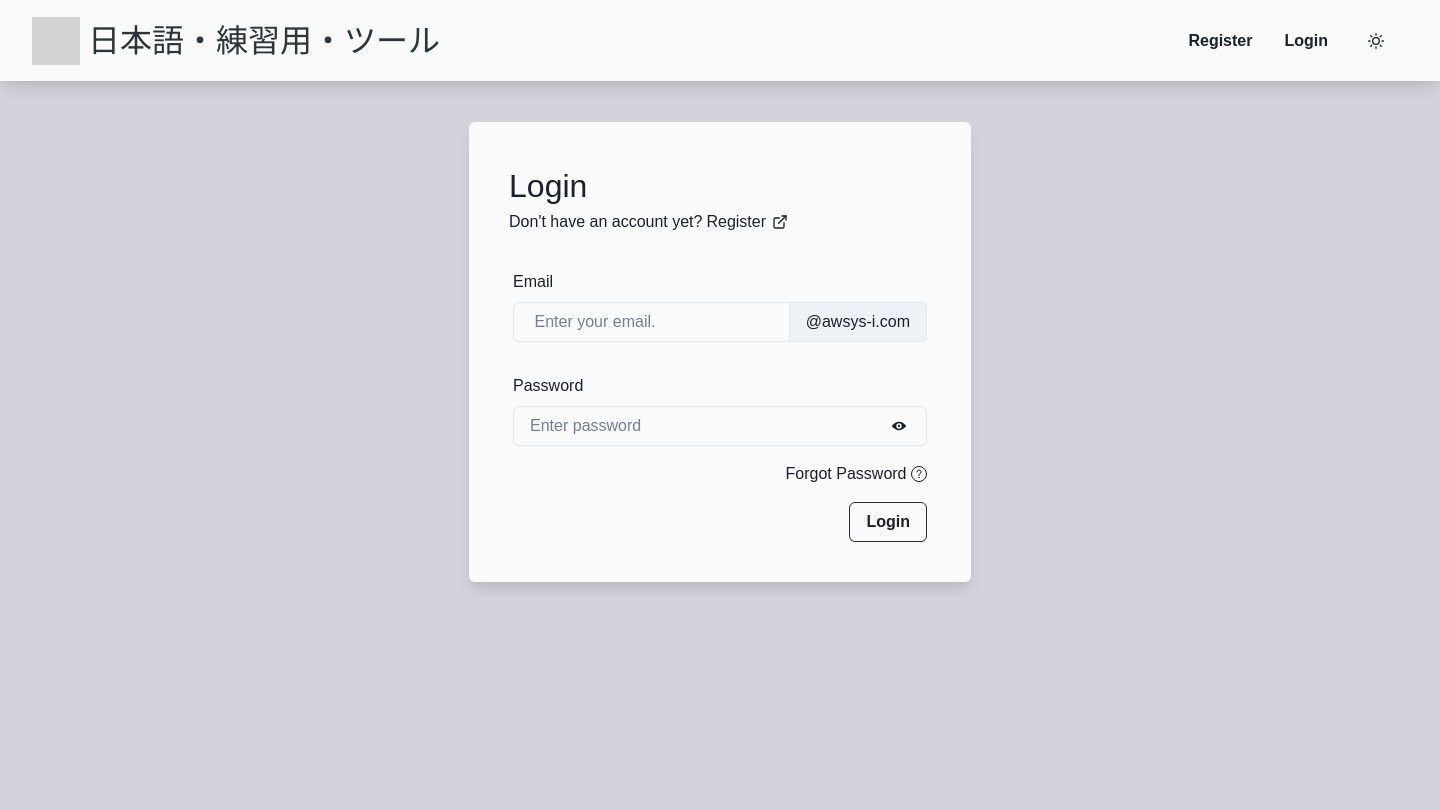
Test case: -------------- Unit Testing -------------- › VITEST_UT_LOGIN-200 Check if login form Show error alerts › VITEST_UT_LOGIN-201 Should Show popup alert on both fields if login button pressed without both input fields
Click the button with test id "login-button" at (888, 522), box [849,502,927,542]
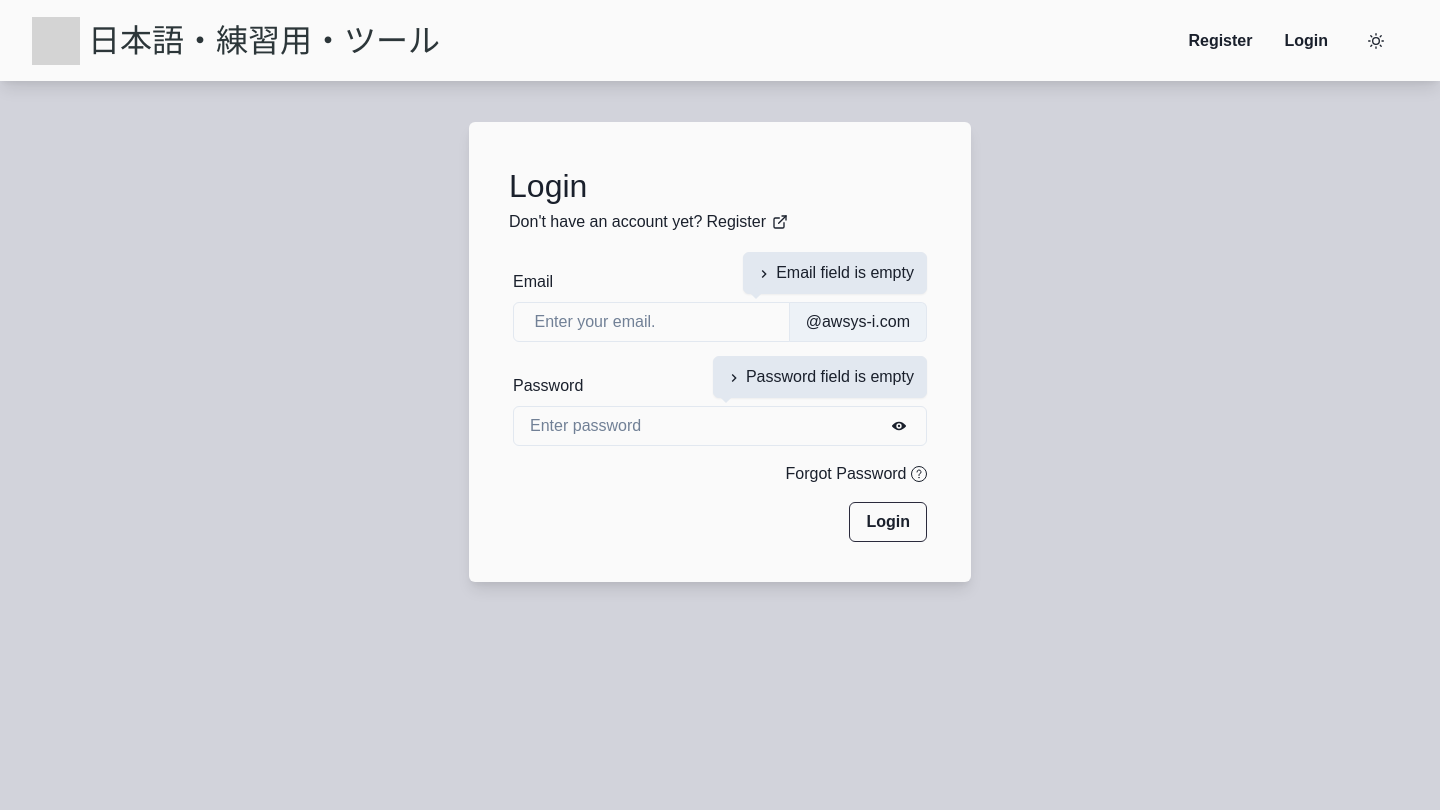
Expected: the text "Email field is empty" is shown, [756,264,914,282]
Expected: the text "Password field is empty" is shown, [726,368,914,386]
